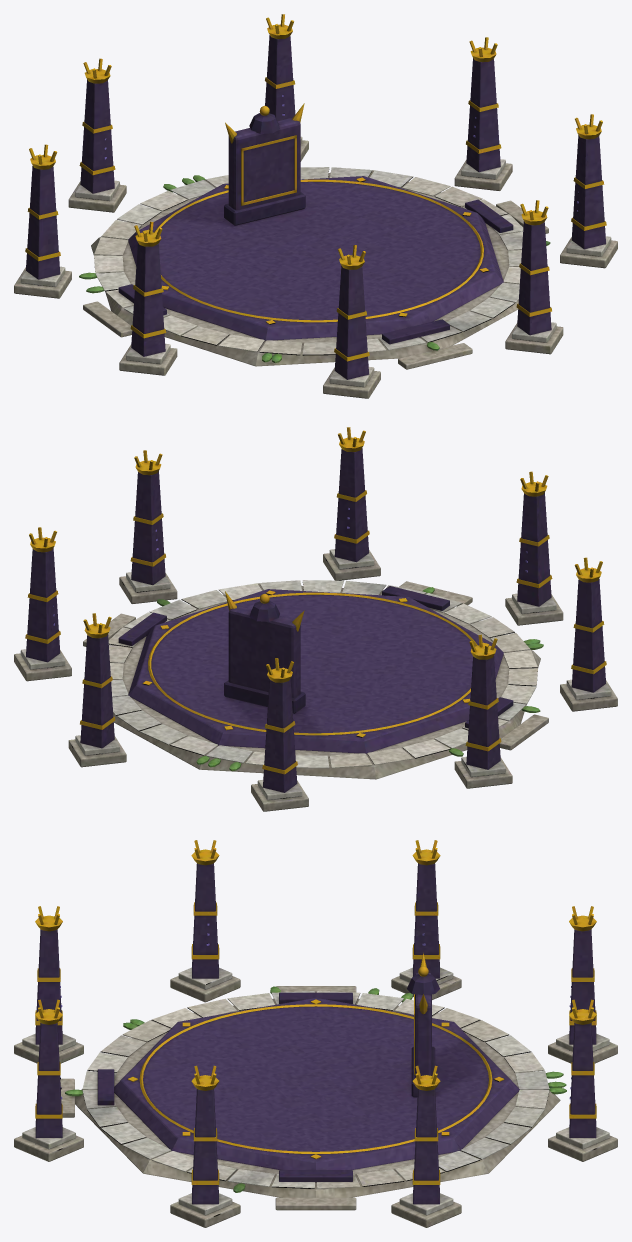
The model's file is raidAltar.glb.
The picture shows the model from 3 angles, top to bottom: view 1: azimuth 30°, elevation 25°; view 2: azimuth 150°, elevation 25°; view 3: azimuth 270°, elevation 25°; orthographic projection. The views are drawn at different scales.
Parts seen in each view (by area): view 1: cyl; view 2: cyl; view 3: cyl.
Part boxes in pixels (x1,y1,x2,y2): cyl: (14, 14, 617, 398); cyl: (14, 427, 617, 811); cyl: (14, 840, 617, 1227).
Bounding box in the file's own units: 17.98 × 4.73 × 17.98.
1 material, 1 textured.
